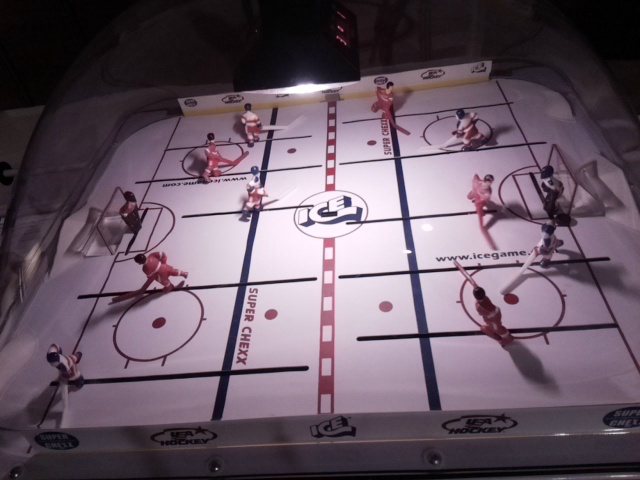puck: (555, 212, 571, 226)
